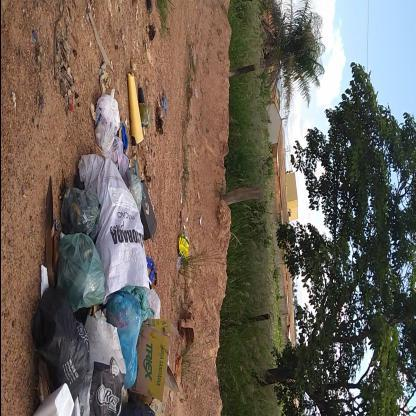lixo: (30, 72, 164, 416)
